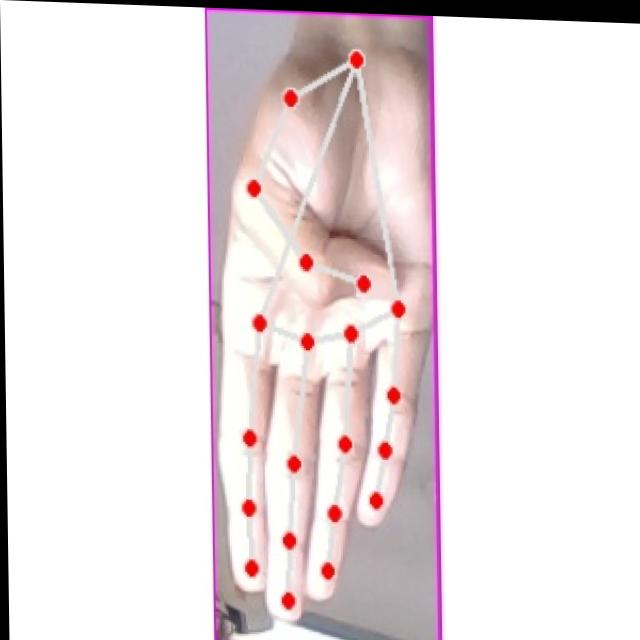B: (217, 43, 432, 635)
